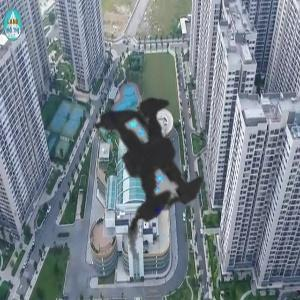drone: (4, 4, 298, 298)
